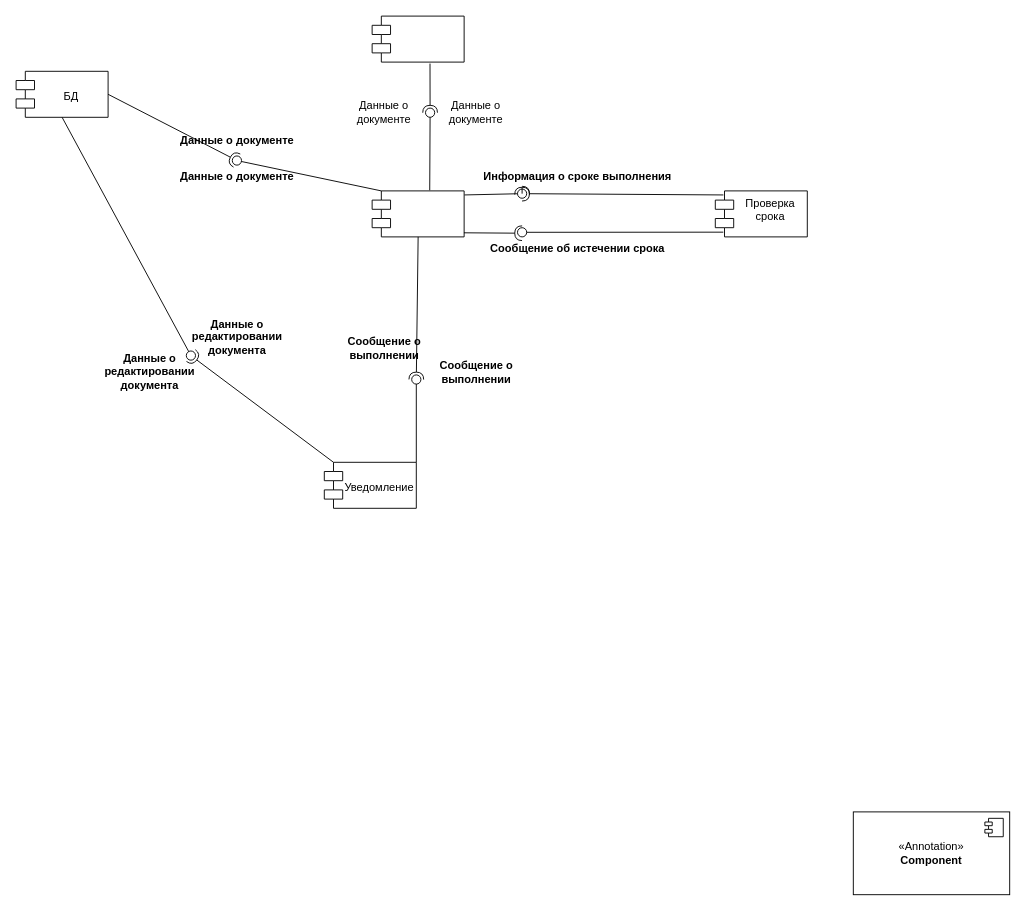
The diagram is 1026 pixels wide and 911 high, and some of its shapes have lost their labels. Each missing label, with the centre of its shape:
"Клиент" goes at (417,38).
"Обработка данных" goes at (417,213).
